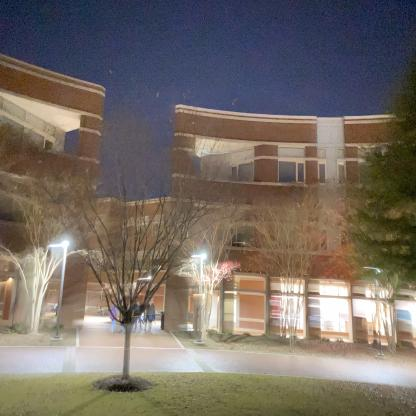eb2: (166, 92, 415, 333)
